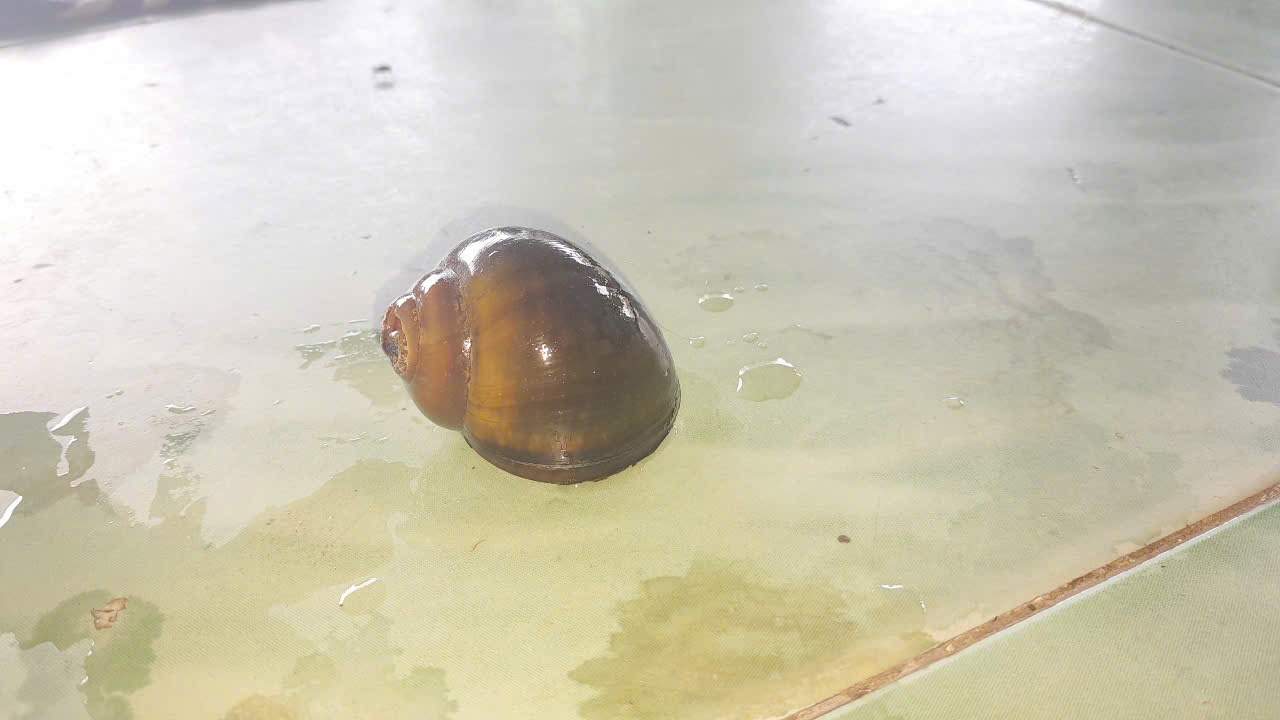oc_buou_vang: (362, 214, 694, 503)
